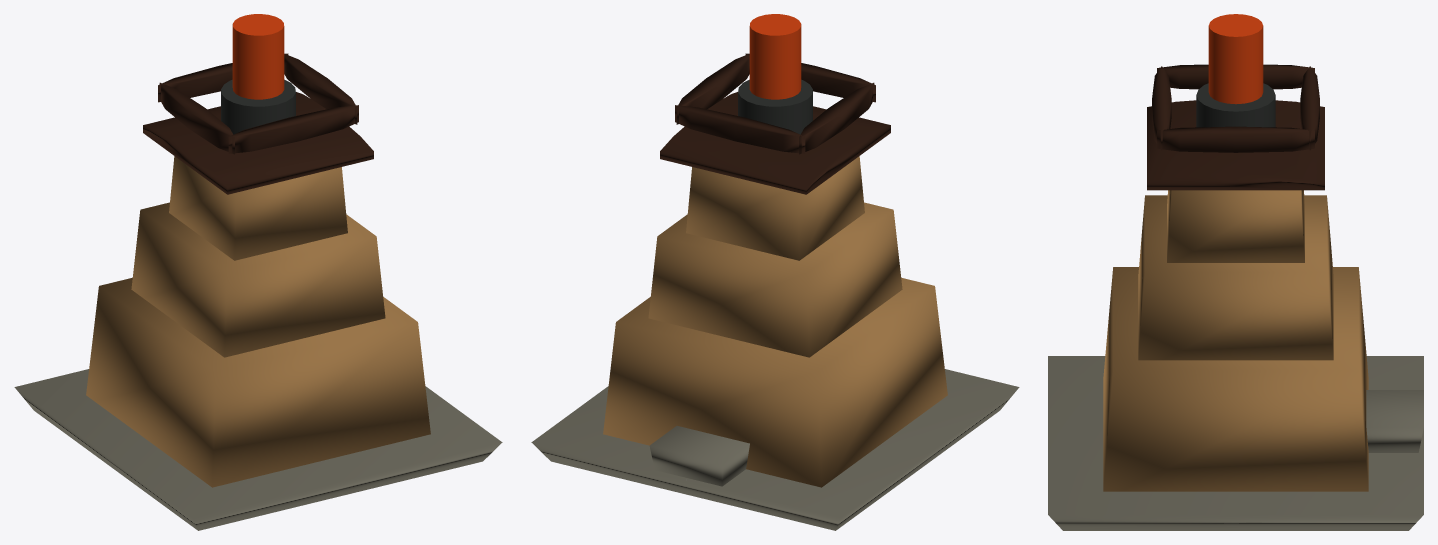
Rendered from R44_HAN_LUOYANG_DEFENSE_BEACON_A.fbx.
3 views of the same model, side by side, from view 1: azimuth 30°, elevation 25°; view 2: azimuth 150°, elevation 25°; view 3: azimuth 270°, elevation 25° (orthographic). The views are drawn at different scales.
Visible parts, largest first — view 1: tower_lower, tower_middle, terrace, tower_upper, platform, signal_fire, rail_n, brazier, rail_e, rail_w, rail_s; view 2: tower_lower, tower_middle, terrace, tower_upper, platform, signal_fire, ramp, rail_s, brazier, rail_e, rail_w, rail_n; view 3: tower_lower, terrace, tower_middle, tower_upper, platform, signal_fire, rail_w, ramp, brazier, rail_e, rail_n, rail_s.
Boxes of the visible parts, box(x1,y1,x2,y2) form: tower_lower: box(86, 277, 430, 487); tower_middle: box(131, 202, 385, 357); terrace: box(14, 369, 502, 530); tower_upper: box(169, 156, 347, 260); platform: box(143, 92, 373, 194); signal_fire: box(232, 14, 284, 99); rail_n: box(228, 105, 358, 153); brazier: box(221, 79, 295, 134); rail_e: box(159, 82, 234, 154); rail_w: box(284, 54, 357, 124); rail_s: box(158, 53, 288, 102); tower_lower: box(603, 277, 947, 487); tower_middle: box(648, 202, 902, 357); terrace: box(531, 369, 1019, 530); tower_upper: box(686, 156, 864, 260); platform: box(660, 92, 890, 194); signal_fire: box(749, 14, 801, 99); ramp: box(649, 426, 749, 486); rail_s: box(675, 105, 805, 153); brazier: box(738, 79, 812, 134); rail_e: box(799, 82, 874, 154); rail_w: box(676, 54, 749, 124); rail_n: box(745, 53, 875, 102); tower_lower: box(1103, 267, 1368, 491); terrace: box(1048, 356, 1423, 530); tower_middle: box(1138, 195, 1333, 360); tower_upper: box(1167, 190, 1304, 262); platform: box(1147, 100, 1324, 190); signal_fire: box(1208, 14, 1263, 104); rail_w: box(1157, 126, 1314, 152); ramp: box(1366, 390, 1423, 452); brazier: box(1196, 83, 1275, 127); rail_e: box(1157, 64, 1314, 89); rail_n: box(1152, 66, 1171, 150); rail_s: box(1300, 66, 1319, 150).
Bounding box in the file's own units: 76 × 96.5 × 76.
